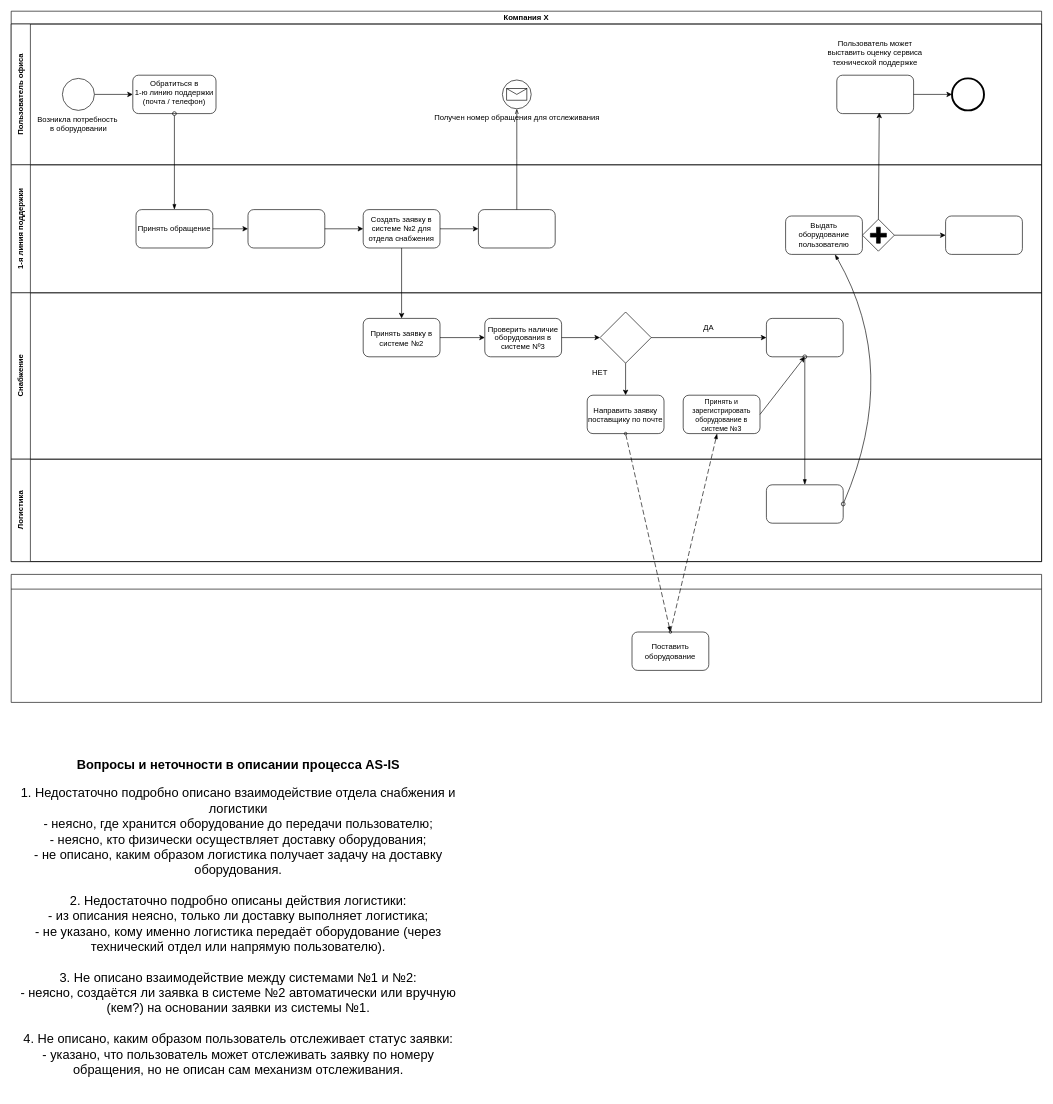
Image size: 1053x1104. Some labels were removed from this diagram. Here are the shapes that lost their labels. From the top down, the box of each, then its label:
(836, 75, 914, 114): Получить оборудование
(247, 209, 325, 248): Зарегистрировать заявку в системе Nº1
(478, 209, 555, 248): Сообщить номер обращения пользователю
(945, 215, 1022, 254): Закрыть заявки в системах №1 и №2
(599, 311, 651, 363): Оборудование есть
(766, 318, 843, 357): Передать оборудование в логистику
(766, 484, 843, 523): Доставить оборудование в Техническую поддержку
(11, 574, 1042, 702): Поставщики
